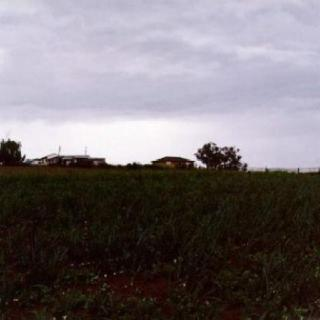Stratocumulus: (0, 0, 320, 161)
